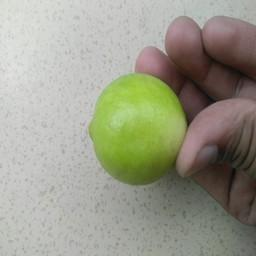Good_lime: (85, 67, 189, 188)
